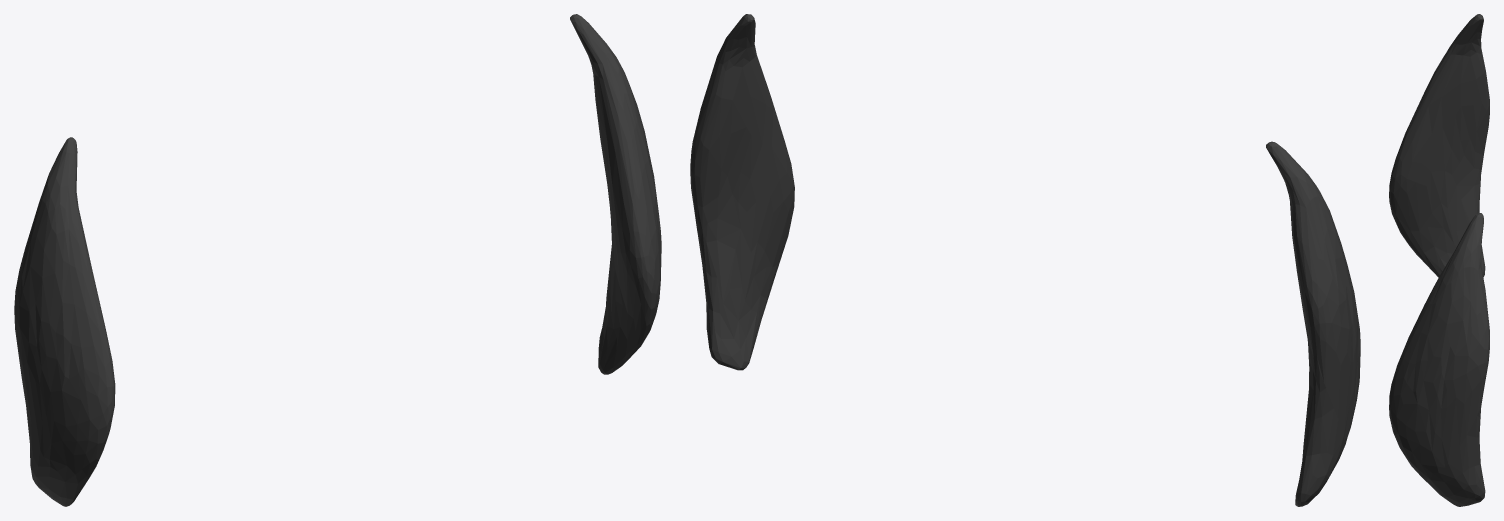
File: m_deltoid_pars_acromialis.glb
3 views of the same model, side by side, from view 1: azimuth 30°, elevation 25°; view 2: azimuth 150°, elevation 25°; view 3: azimuth 270°, elevation 25° (orthographic). The views are drawn at different scales.
Visible parts, largest first — view 1: m_deltoid_pars_acromialis; view 2: m_deltoid_pars_acromialis; view 3: m_deltoid_pars_acromialis.
Part boxes in pixels (<box>): m_deltoid_pars_acromialis: <box>14,14,661,506</box>; m_deltoid_pars_acromialis: <box>690,14,1360,506</box>; m_deltoid_pars_acromialis: <box>1389,14,1489,506</box>.
Bounding box in the file's own units: 0.00485 × 0.00264 × 0.000842.
Materials: 1 (1 with a texture image).
